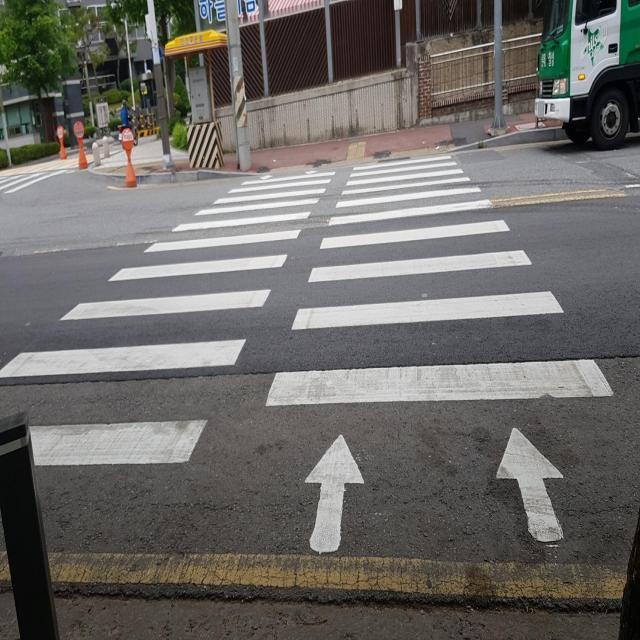횡단보도: (0, 154, 617, 558)
